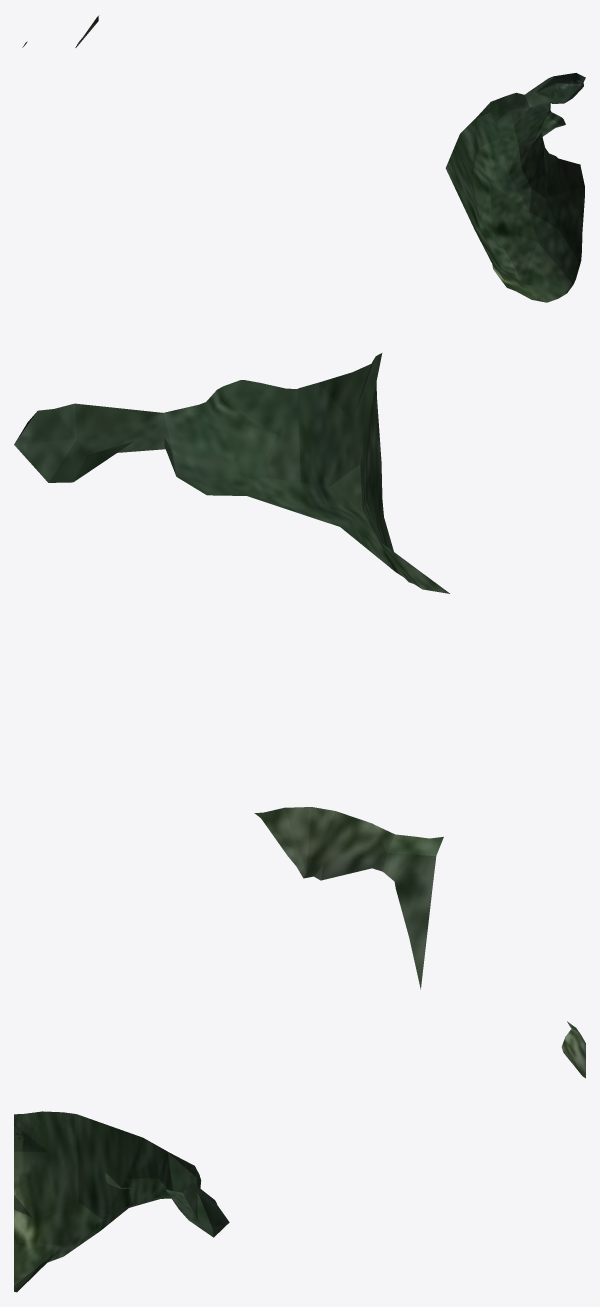
3 renders of one model, top to bottom at view 1: azimuth 30°, elevation 25°; view 2: azimuth 150°, elevation 25°; view 3: azimuth 270°, elevation 25°, orthographic. The views are drawn at different scales.
Bounding box in the file's own units: 4.85 × 1.54 × 5.9.
1 material, 1 textured.
